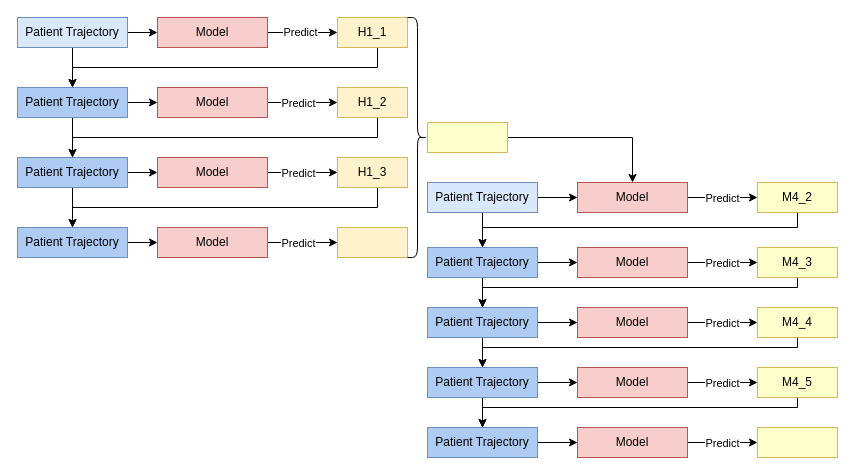
The diagram is 855 pixels wide and 475 high, and some of its shapes have lost their labels. The box of each missing label's shape, as (x1, y1, x2, y2) in pixels:
H1_4: (336, 226, 408, 258)
M4_1: (426, 122, 508, 152)
M4_6: (756, 426, 838, 458)
